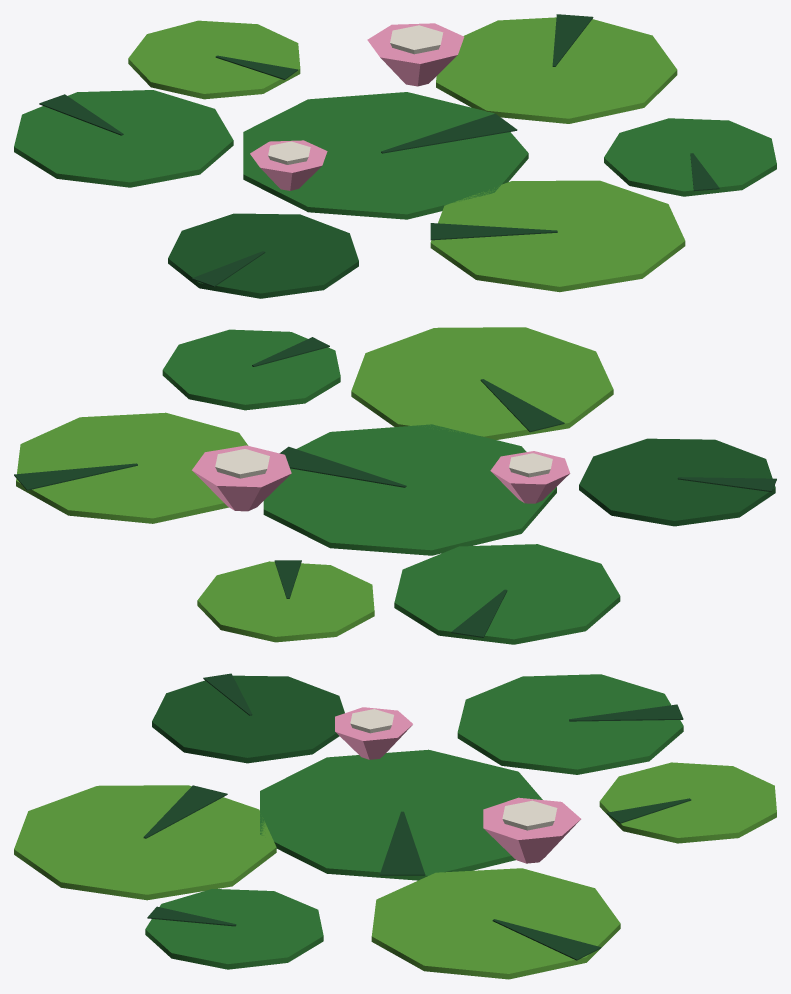
File: teratai.glb
3 views of the same model, one above another, from view 1: azimuth 30°, elevation 25°; view 2: azimuth 150°, elevation 25°; view 3: azimuth 270°, elevation 25° (orthographic). The views are drawn at different scales.
Visible parts, largest first — view 1: body; view 2: body; view 3: body.
Part boxes in pixels (x1,y1,x2,y2): body: (14, 14, 776, 298); body: (14, 327, 776, 644); body: (14, 673, 776, 979).
Bounding box in the file's own units: 2.34 × 0.195 × 2.52.
1 material, 1 textured.
